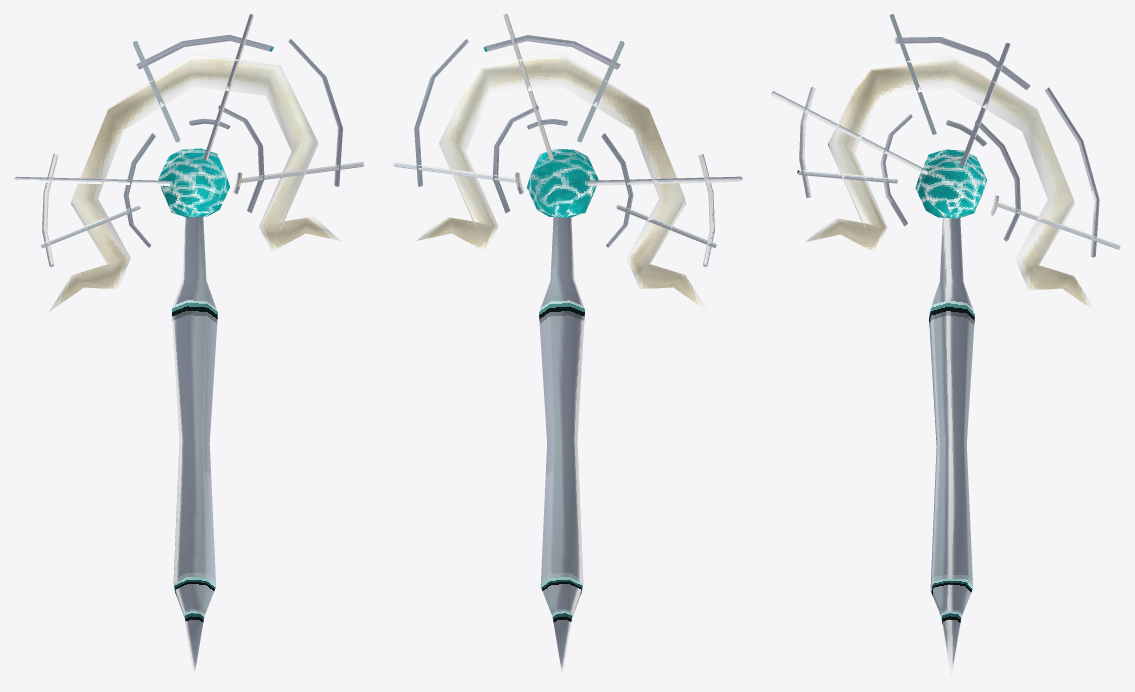
The model's file is ps2_save-icons_atlantisiii.glb.
The picture shows the model from 3 angles, left to right: view 1: azimuth 30°, elevation 25°; view 2: azimuth 150°, elevation 25°; view 3: azimuth 330°, elevation 25°; orthographic projection.
Visible parts, largest first — view 1: static.icn; view 2: static.icn; view 3: static.icn.
Boxes of the visible parts, x1=… form: static.icn: x1=14, y1=14, x2=364, y2=676; static.icn: x1=393, y1=14, x2=742, y2=677; static.icn: x1=771, y1=14, x2=1120, y2=677.
Size of the model in its own units: 2.76 by 4.94 by 0.5122.
Materials: 1 (1 with a texture image).
